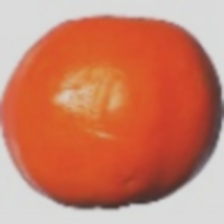tangerine: (46, 21, 187, 178)
